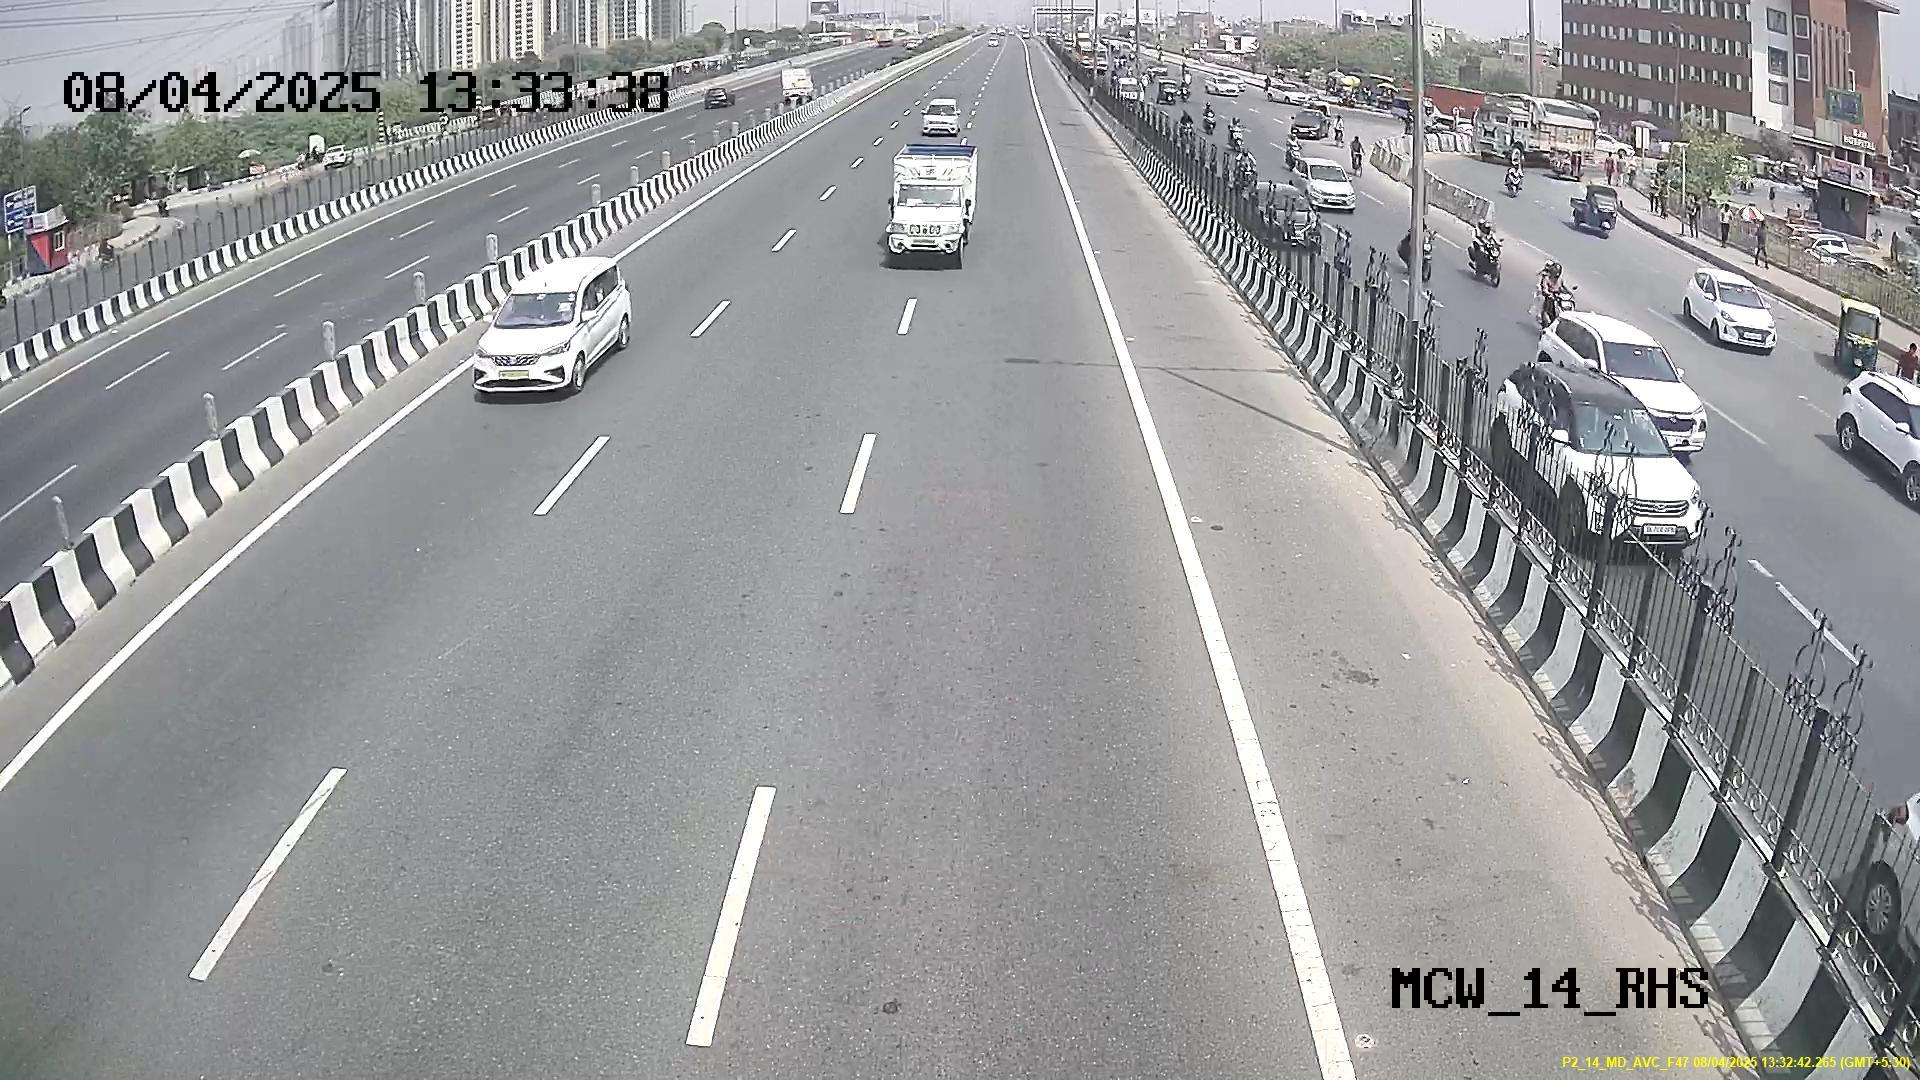car: (469, 262, 603, 400), (885, 166, 978, 269)
